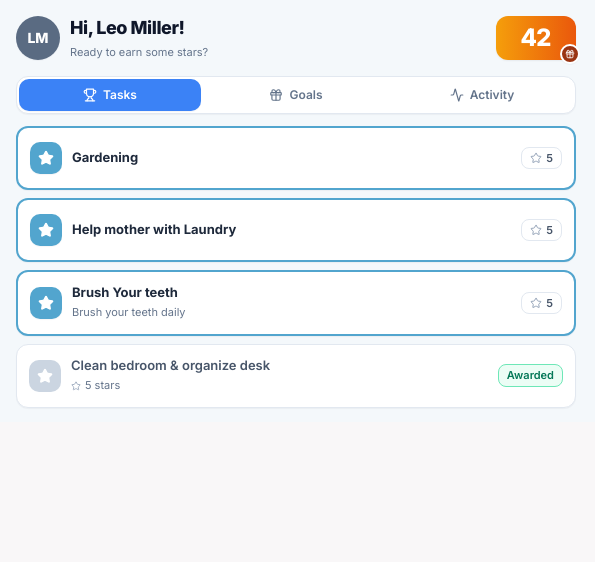
Test: family hero child demo › lets visitors explore tasks, claimed goals and the activity log while keeping their 42-star preview
Expected: the button "Tasks" is shown, top-left (19, 79), bottom-right (201, 111)
Expected: the button "Gardening 5" is shown, top-left (16, 126), bottom-right (576, 190)
Step 1. Click the button "Goals" → [296, 95], box top-left (205, 79), bottom-right (387, 111)
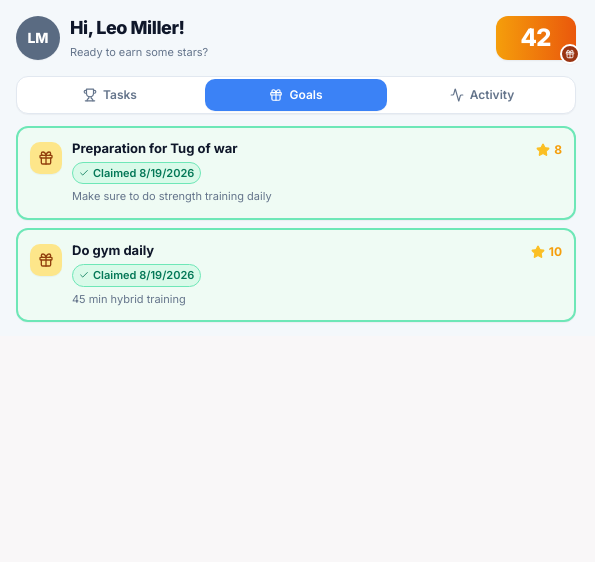
Expected: the button "Preparation for Tug of war" is shown, top-left (16, 126), bottom-right (576, 220)
Expected: the button "Do gym daily Claimed 8/19/2026 45 min hybrid training 10" is shown, top-left (16, 228), bottom-right (576, 322)
Expected: the text "Claimed 8/19/2026" is shown 2 times, top-left (72, 162), bottom-right (201, 184); top-left (72, 264), bottom-right (201, 286)
Step 2. Click the button "Activity" → [482, 95], box top-left (391, 79), bottom-right (573, 111)
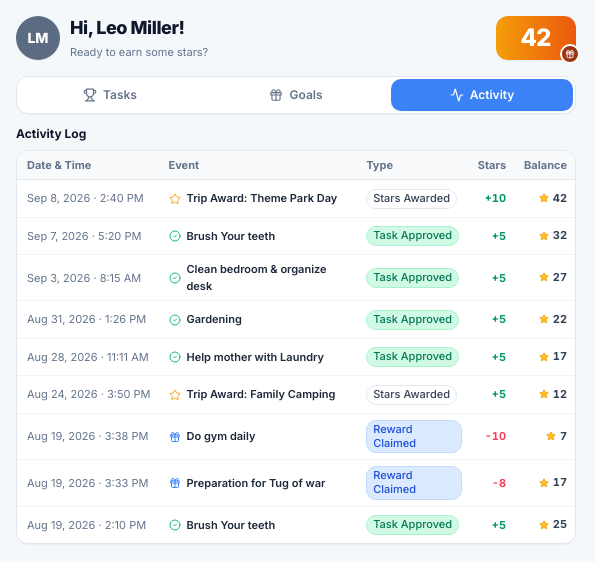
Expected: the heading "Activity Log" is shown, top-left (16, 126), bottom-right (86, 141)
Expected: the column headings read "Date & Time", "Event", "Type", "Stars", "Balance", in this order, top-left (17, 151), bottom-right (160, 180); top-left (160, 151), bottom-right (358, 180); top-left (358, 151), bottom-right (470, 180); top-left (470, 151), bottom-right (514, 180); top-left (514, 151), bottom-right (575, 180)
Expected: the text "Task Approved" in the row of "Sep 7, 2026 · 5:20 PM" is shown, top-left (373, 228), bottom-right (452, 242)
Step 3. Click the button "Tasks" → [110, 95], box top-left (19, 79), bottom-right (201, 111)
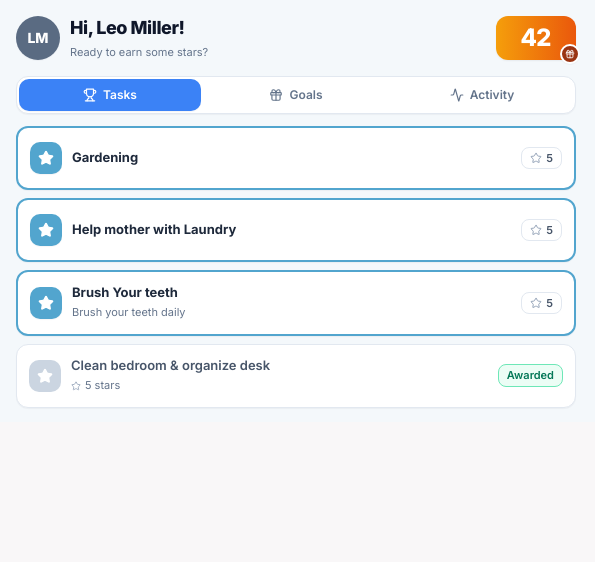
Expected: the button named "Cash in stars, 42 stars available" reads "42", top-left (496, 16), bottom-right (576, 60)
Expected: the button "Brush Your teeth Brush your teeth daily 5" is shown, top-left (16, 270), bottom-right (576, 336)
